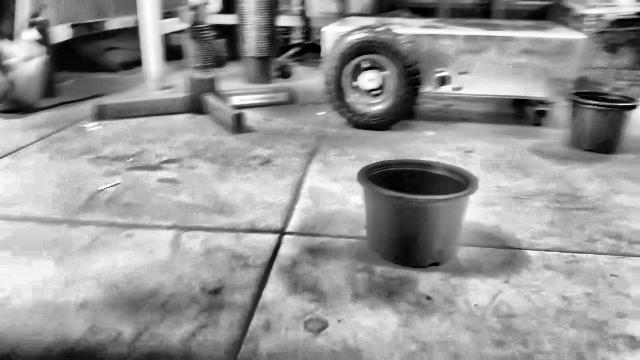pot: (360, 160, 475, 268)
